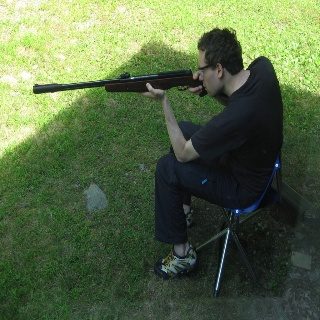rifle: (32, 68, 215, 97)
